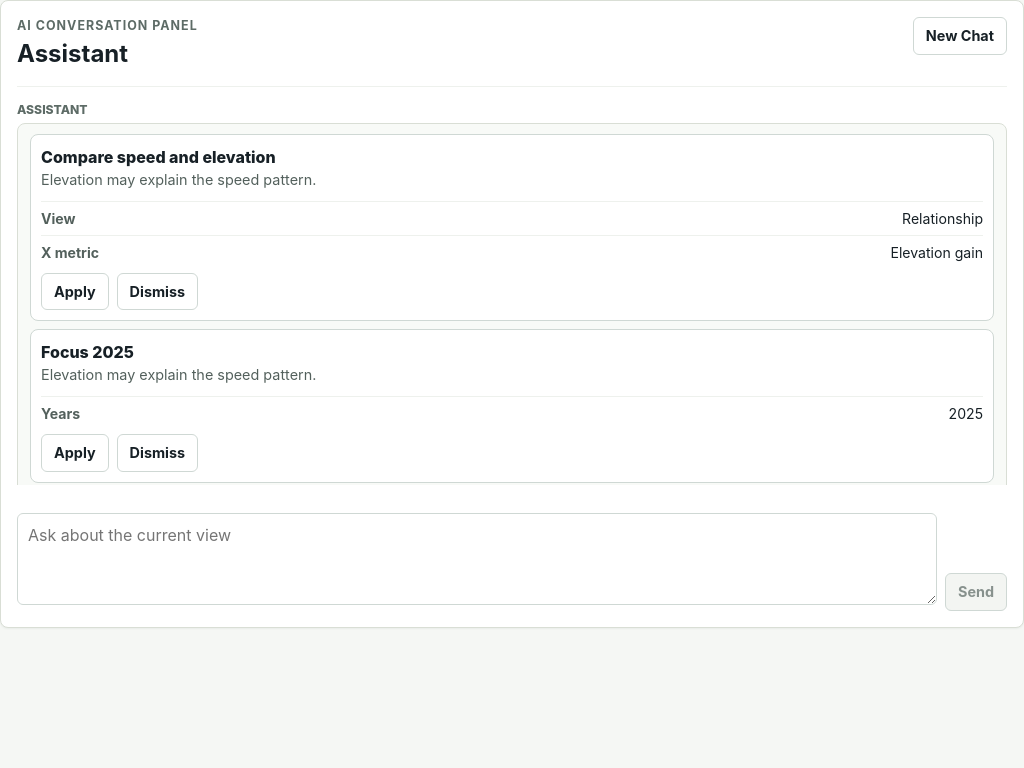
Test case: ConversationPanelShell › marks pending suggestions ignored before a manual user submit
Type "What about weekends?" into the text box labelled "Ask about the current view" at (477, 559), box x1=17 y1=513 x2=937 y2=605
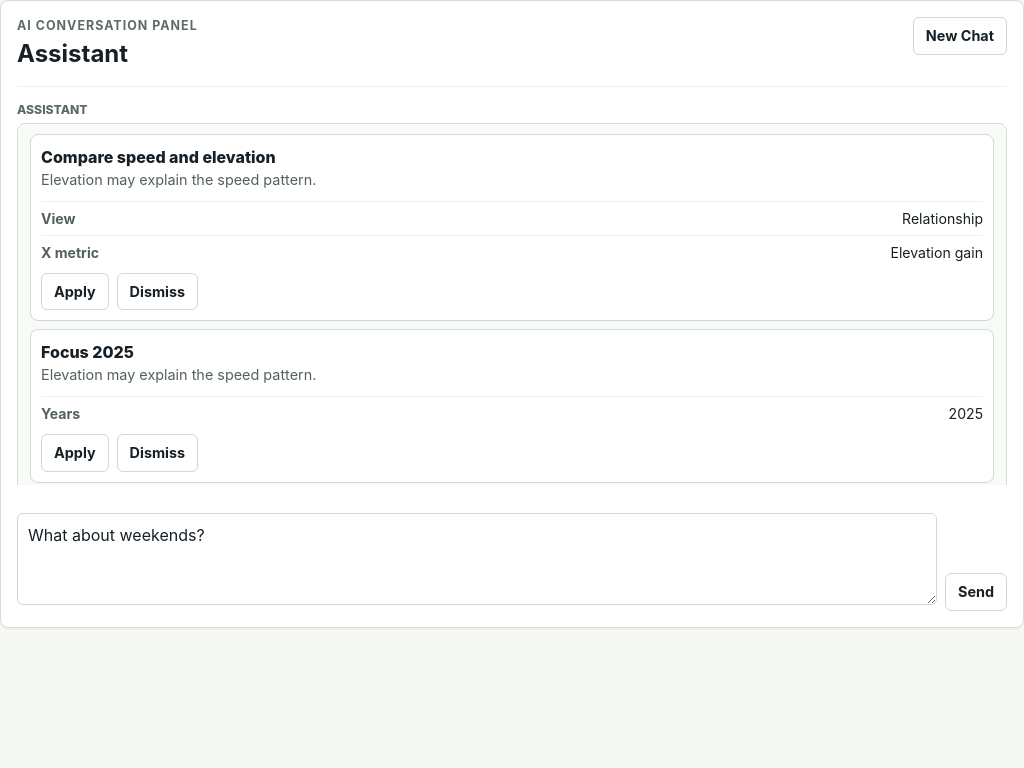
Submit the form "Send", box x1=17 y1=513 x2=1007 y2=611
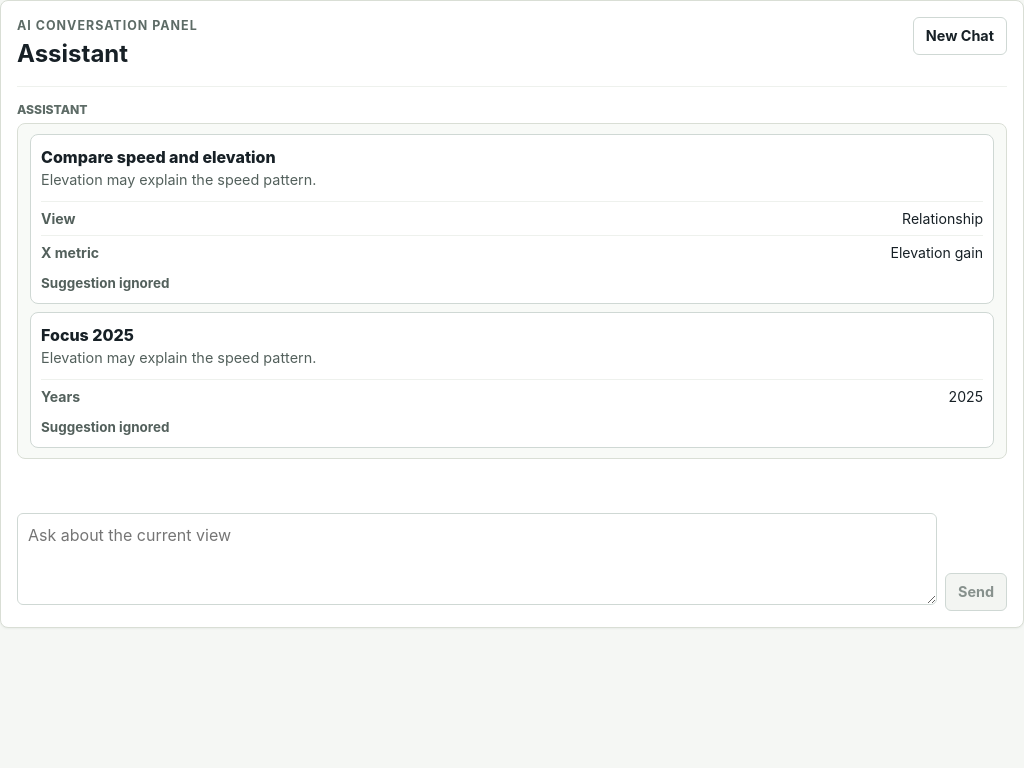
Check: the text "Suggestion ignored" is shown 2 times, box x1=41 y1=275 x2=169 y2=291; x1=41 y1=419 x2=169 y2=435
Check: the button "Apply" is gone
Check: the button "Dismiss" is gone
